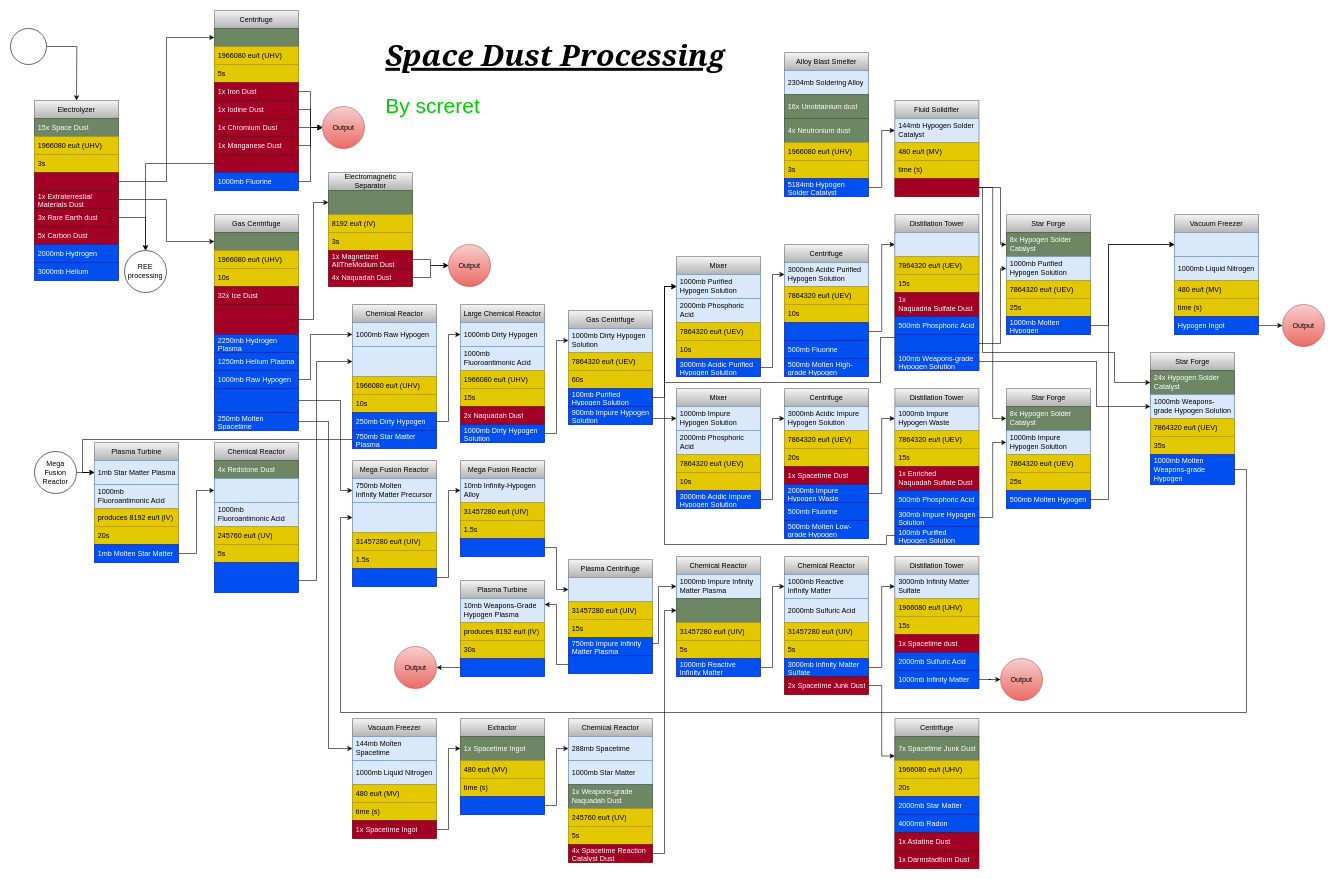
The diagram is 1335 pixels wide and 879 high, and some of its shapes have lost their labels. Here are the shapes that lost their labels. From the top down, the centre of each, then its label:
At point 28,46: "start".
At point 256,37: "6x Trace Minerals dust".
At point 76,181: "1x Trace Minerals Dust".
At point 256,163: "1x Rare Earth Elements Tiny Dust".
At point 370,202: "5x AllTheModium-Naquadah Mixture Dust".
At point 936,187: "1x Hypogen Solder Catalyst".
At point 256,241: "40x Extraterrestial Materials Dust".
At point 936,244: "1000mb Purified Hypogen Waste".
At point 1216,244: "144mb Molten Hypogen".
At point 256,319: "3x AllTheModium-Naquadah Mixture small Dust".
At point 826,331: "2000mb Purified Hypogen Waste".
At point 394,361: "1000mb Ultra High Grade Hypogen Separation Agent".
At point 936,343: "300mb Purified Hypogen Solution".
At point 256,400: "250mb Molten Infinity Matter Precursor".
At point 256,490: "500mb Molten Star Matter".
At point 394,517: "250mb Molten Weapons-Grade Hypogen".
At point 502,547: "10mb Infinity-Hypogen Alloy Plasma".
At point 256,577: "1500mb Ultra High Grade Hypogen Separation Agent".
At point 394,577: "1000mb Infinity-Hypogen Alloy".
At point 610,589: "1000mb Infinity-Hypogen Alloy Plasma".
At point 718,610: "2x Spacetime Reaction Catalyst Dust".
At point 502,667: "10mb Liquid Weapons-Grade Hypogen".
At point 610,664: "250mb Weapons-Grade Hypogen Plasma".
At point 502,805: "144mb Spacetime".
